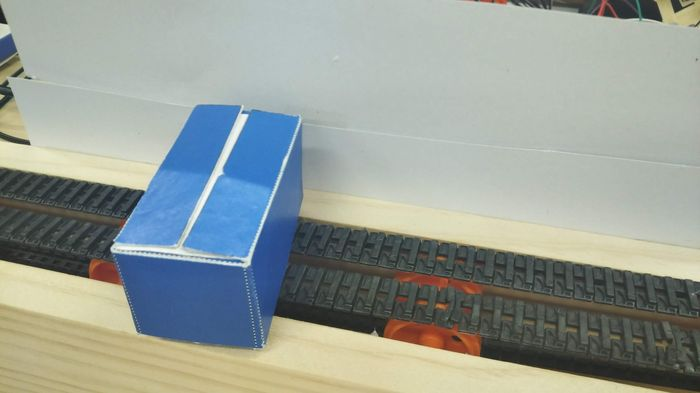box3: (106, 102, 305, 351)
